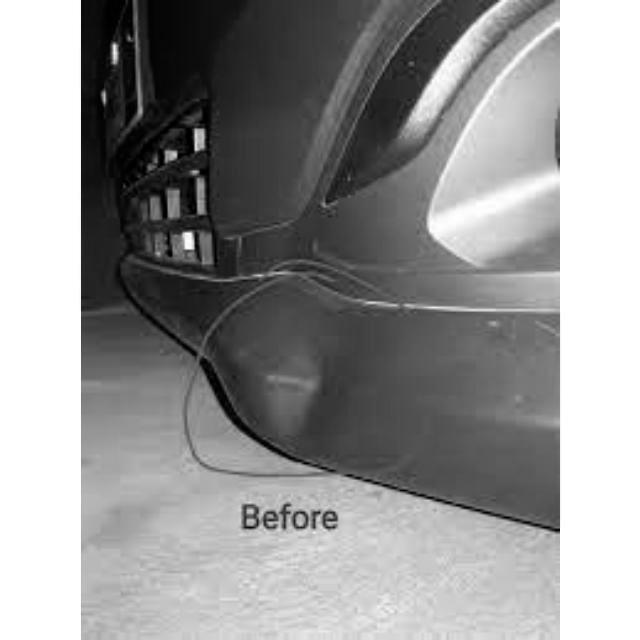front-bumper-dent: (88, 216, 557, 529)
